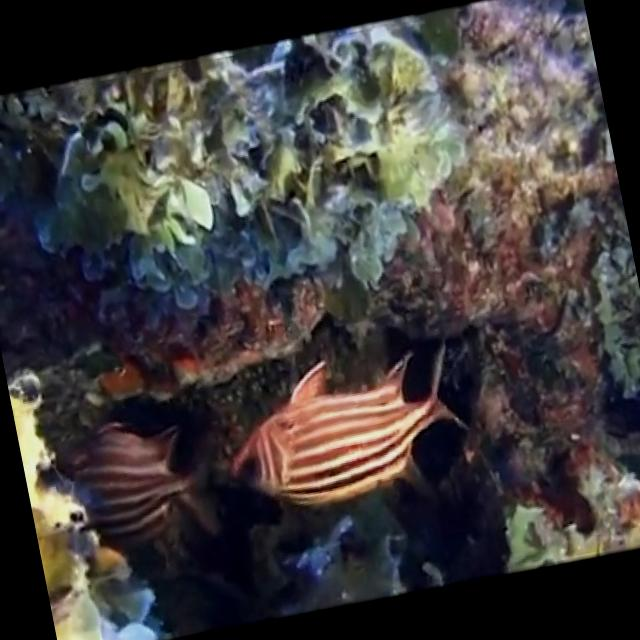Asker Baligi: (207, 329, 478, 526)
